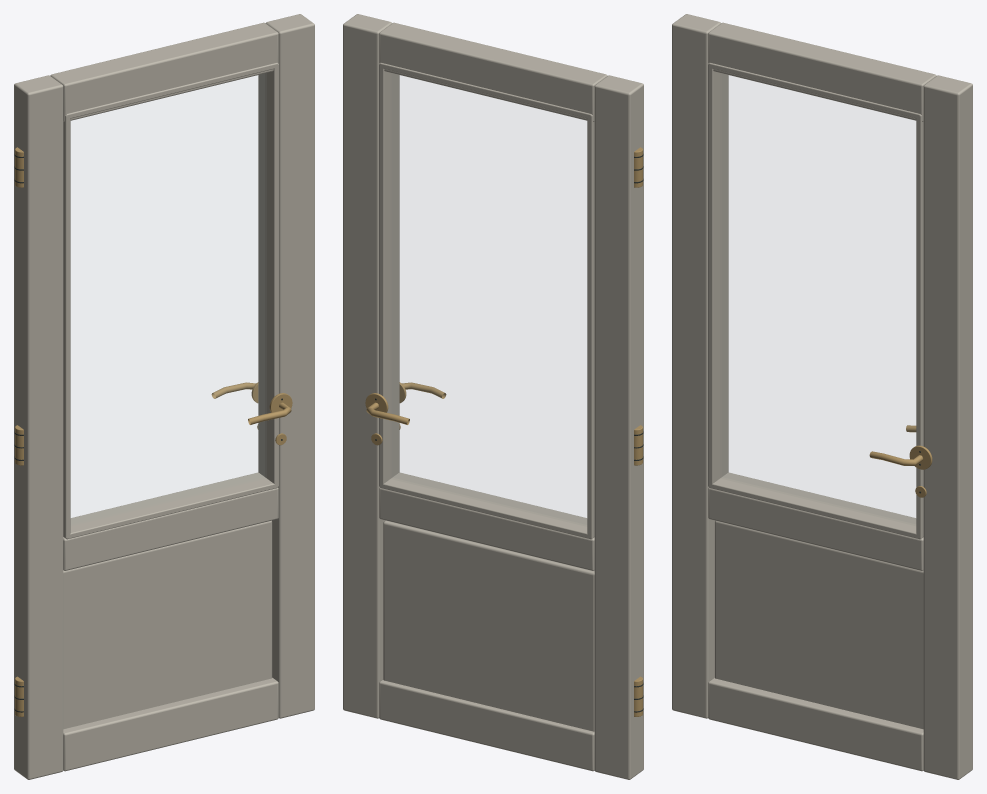
Rendered from door.glb.
3 views of the same model, side by side, from view 1: azimuth 30°, elevation 25°; view 2: azimuth 150°, elevation 25°; view 3: azimuth 330°, elevation 25° (orthographic).
Parts seen in each view (by area): view 1: door / Champagne powder coat, door / Brushed warm brass; view 2: door / Champagne powder coat, door / Brushed warm brass; view 3: door / Champagne powder coat, door / Brushed warm brass.
Boxes of the visible parts, box(x1,y1,x2,y2) form: door / Champagne powder coat: box(14, 14, 314, 779); door / Brushed warm brass: box(15, 147, 292, 716); door / Champagne powder coat: box(343, 14, 643, 779); door / Brushed warm brass: box(365, 147, 642, 716); door / Champagne powder coat: box(672, 14, 972, 779); door / Brushed warm brass: box(869, 425, 932, 497).
Bounding box in the file's own units: 1.05 × 2.35 × 0.2549.
